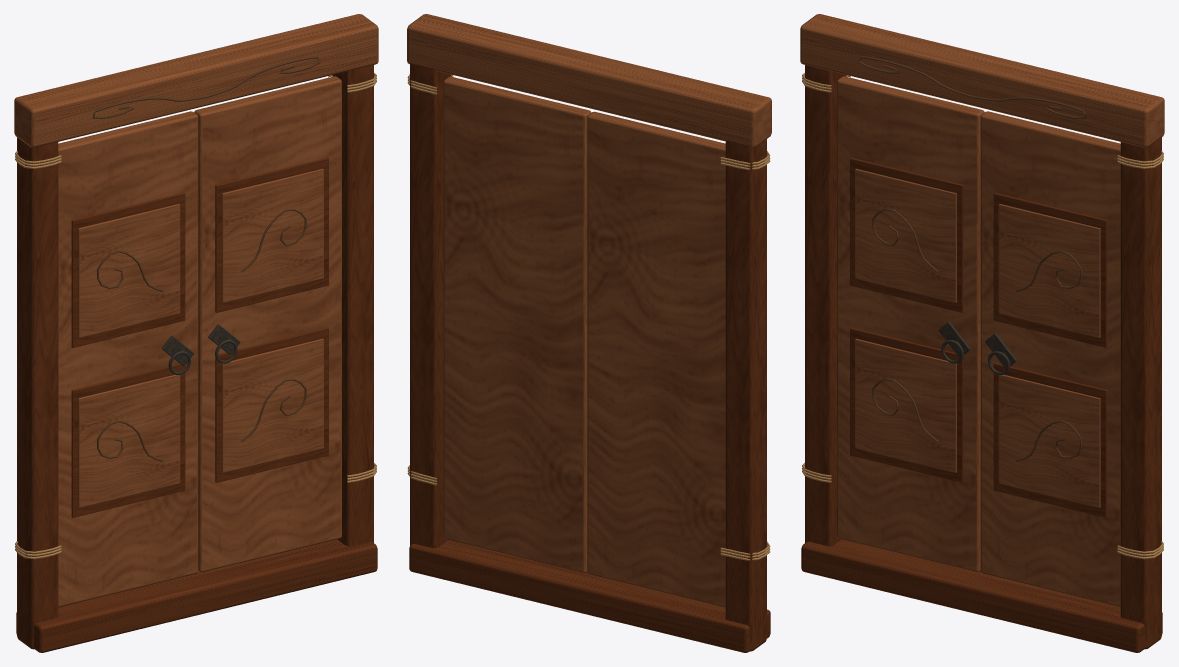
Rendered from interior-double-door.glb.
3 views of the same model, side by side, from view 1: azimuth 30°, elevation 25°; view 2: azimuth 150°, elevation 25°; view 3: azimuth 330°, elevation 25° (orthographic).
Parts seen in each view (by area): view 1: Carved interior double door, Door_Right_Hinge, Door_Left_Hinge; view 2: Carved interior double door, Door_Right_Hinge, Door_Left_Hinge; view 3: Carved interior double door, Door_Left_Hinge, Door_Right_Hinge.
Boxes of the visible parts, x1,y1,x2,y2 form: Carved interior double door: (14, 14, 378, 652); Door_Right_Hinge: (194, 76, 341, 572); Door_Left_Hinge: (58, 111, 198, 607); Carved interior double door: (407, 14, 771, 652); Door_Right_Hinge: (443, 76, 591, 573); Door_Left_Hinge: (587, 111, 725, 607); Carved interior double door: (800, 14, 1164, 652); Door_Left_Hinge: (837, 76, 984, 572); Door_Right_Hinge: (980, 111, 1120, 607).
Size of the model in its own units: 1.24 by 1.81 by 0.152.
5 materials, 4 textured.
